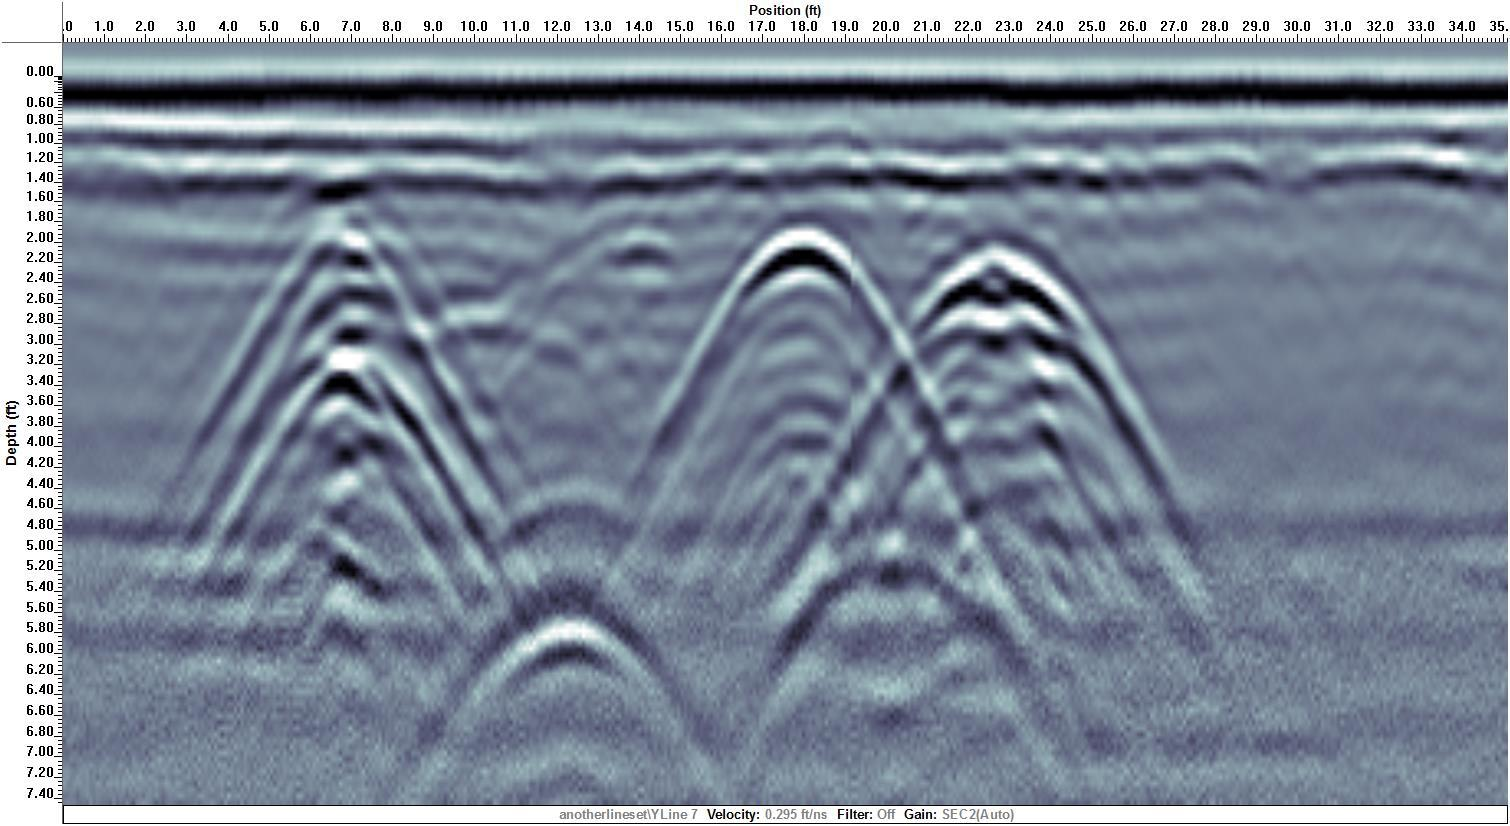hyperbola: (233, 203, 458, 558), (877, 215, 1123, 463), (450, 583, 683, 769), (698, 198, 917, 393)
